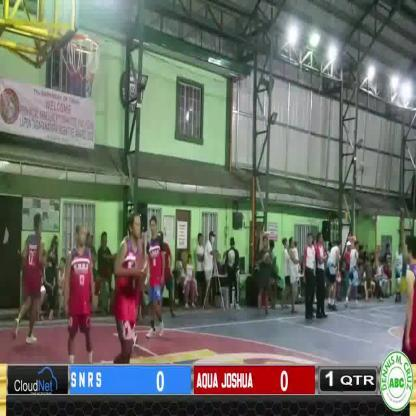basketball: (131, 245, 152, 297)
rim: (56, 16, 101, 111)
